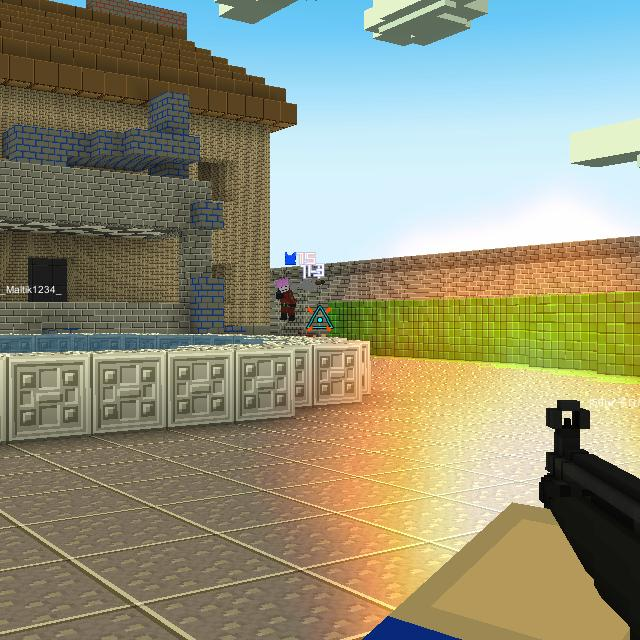enemy: (274, 277, 300, 321)
